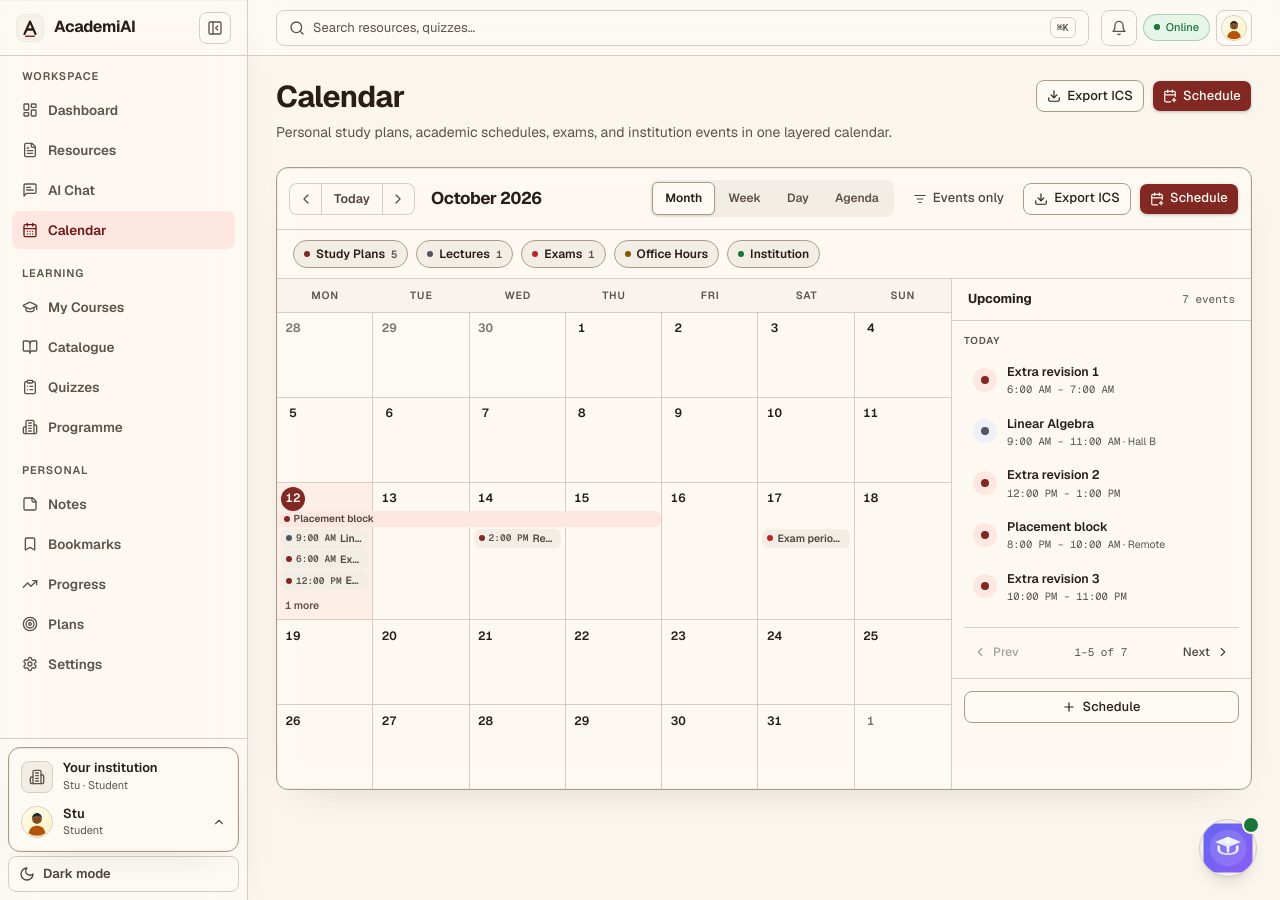
Test: calendar views › opens the schedule dialog
Expected: the text "Linear Algebra" below "13" is shown, [340, 531, 413, 545]
// The label appears twice: the shell action bar and the inline toolbar.
Click the 1st button "Schedule" at (1202, 96), box [1152, 80, 1252, 112]
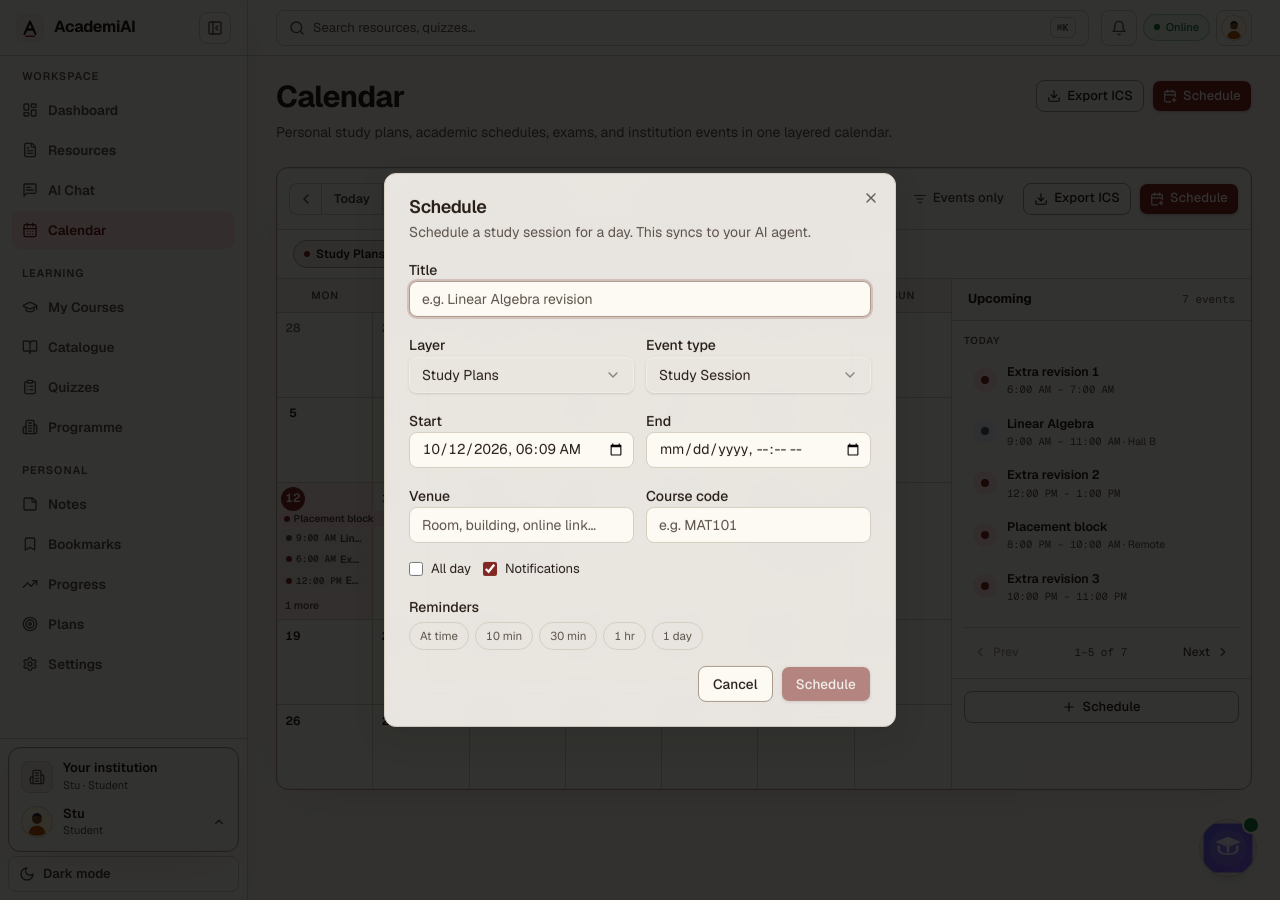
Expected: the heading "Schedule" is shown, [409, 195, 486, 218]
